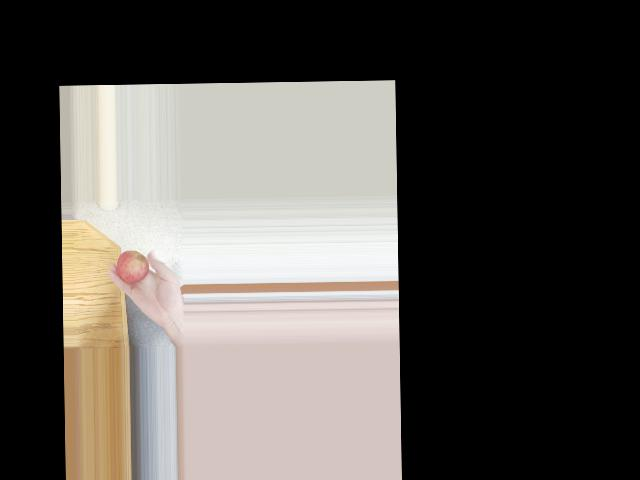apple: (117, 250, 151, 285)
